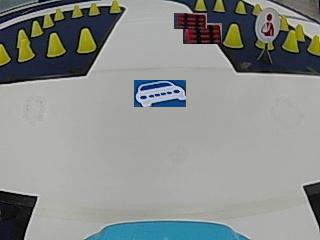cone: (223, 23, 244, 49), (17, 31, 34, 61), (76, 28, 96, 53), (46, 32, 66, 56), (283, 31, 298, 51), (307, 33, 320, 54), (0, 42, 10, 64), (31, 20, 43, 35), (109, 0, 121, 14), (88, 3, 100, 16), (279, 15, 289, 30), (235, 1, 246, 14), (43, 14, 54, 27), (194, 0, 206, 11), (214, 0, 225, 12), (71, 5, 82, 17), (54, 7, 64, 20), (252, 3, 262, 14)
patient: (257, 11, 280, 39)
